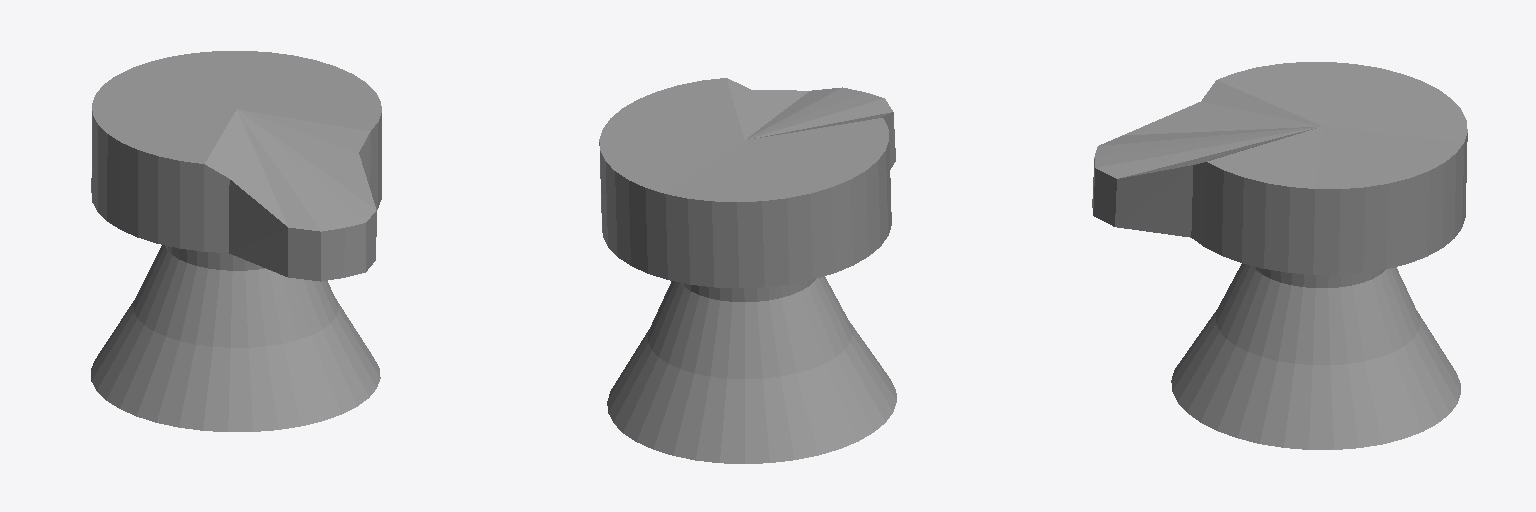
File: whiteknight.obj
3 views of the same model, side by side, from view 1: azimuth 30°, elevation 25°; view 2: azimuth 150°, elevation 25°; view 3: azimuth 270°, elevation 25° (orthographic).
Visible parts, largest first — view 1: Cube; view 2: Cube; view 3: Cube.
Boxes of the visible parts, <box> form: Cube: <box>91,51,381,431</box>; Cube: <box>599,78,896,463</box>; Cube: <box>1092,62,1467,449</box>.
Bounding box in the file's own units: 4.08 × 4.13 × 5.19.